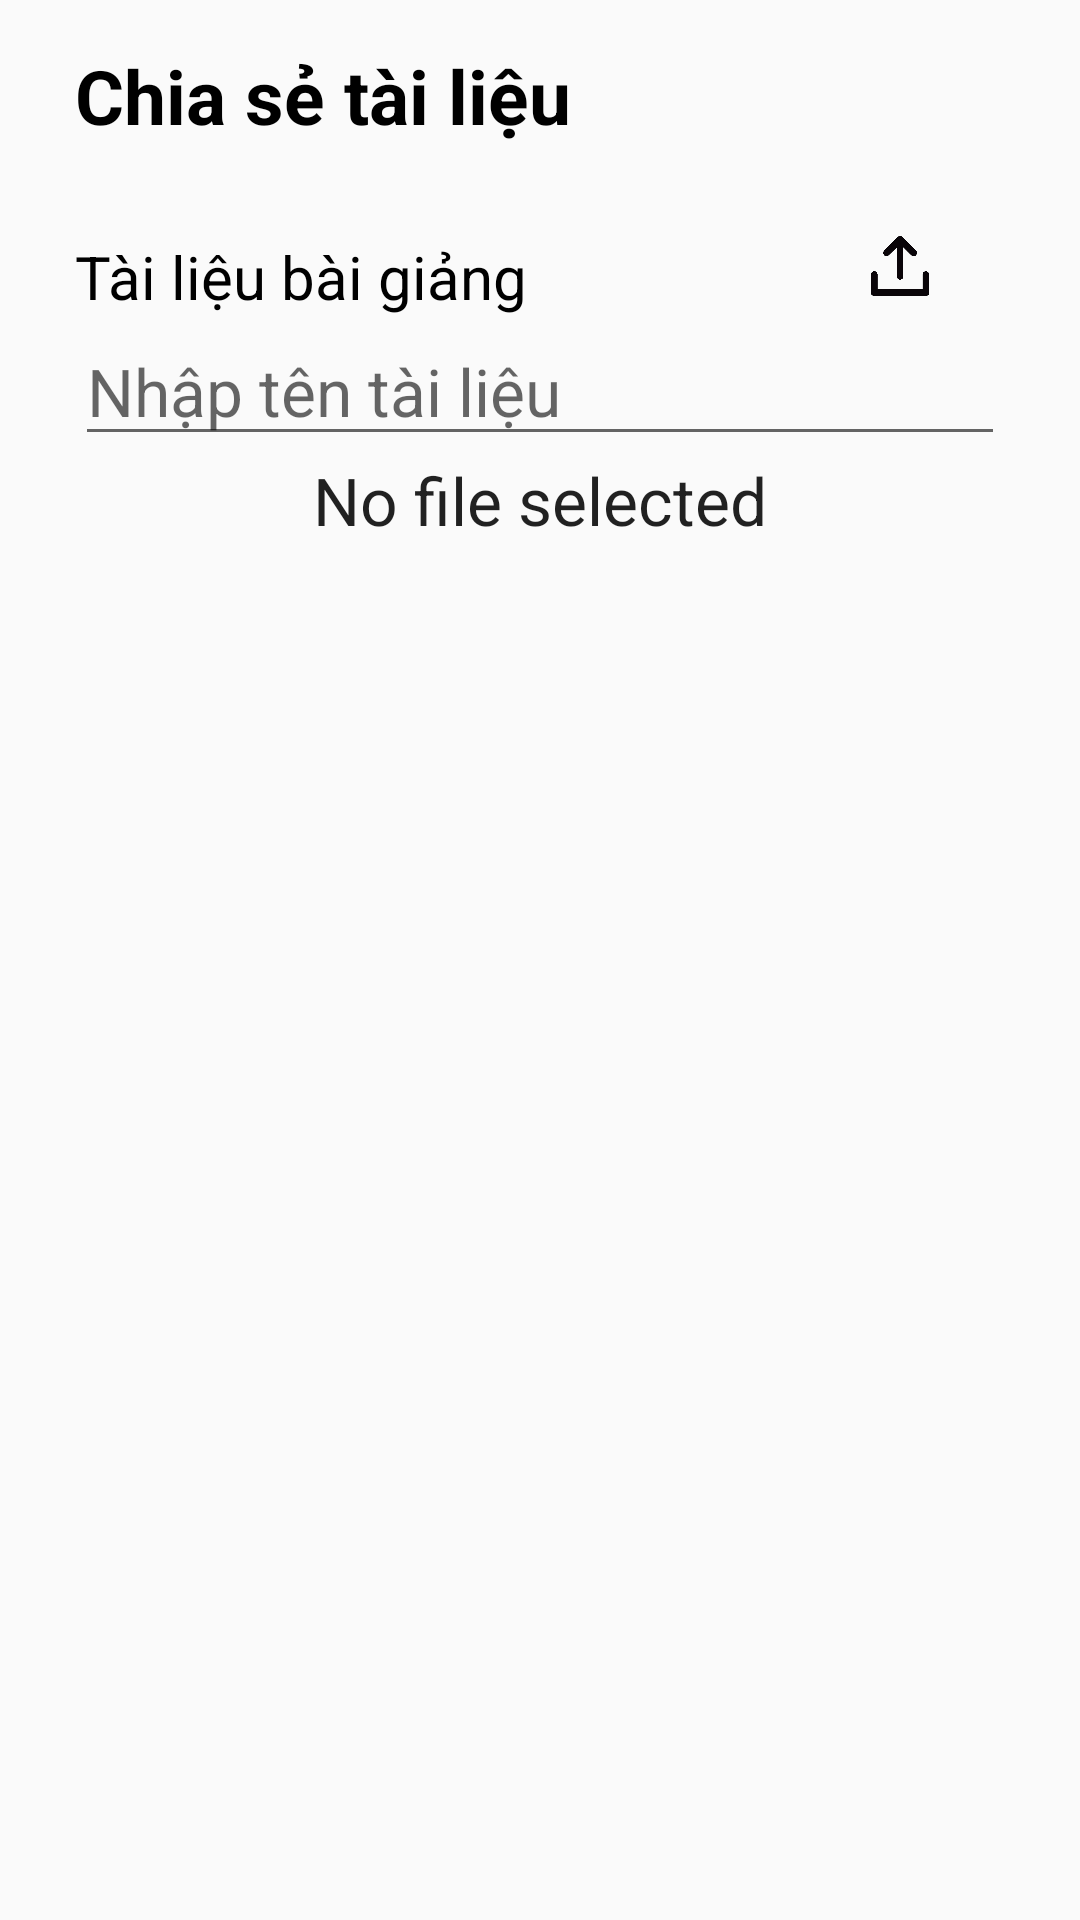

Where icons sit on this 1080*1920 app screen, as [left=x1, top=y1, right=x2, bottom=y2]:
upload: [left=871, top=236, right=929, bottom=296]
